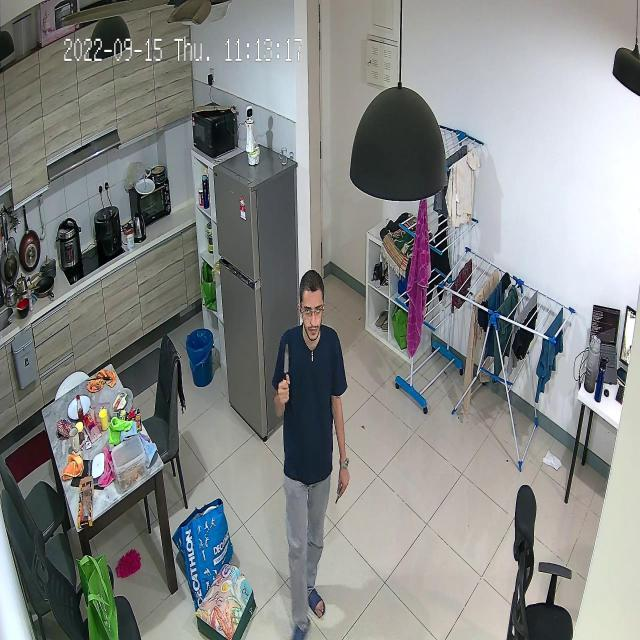Knife: (272, 340, 299, 392)
